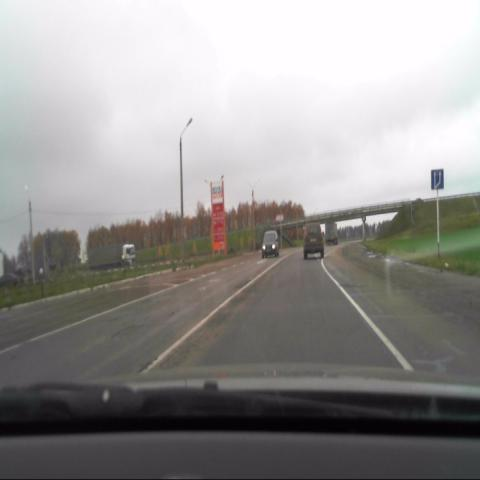5_15_3: (431, 169, 443, 191)
